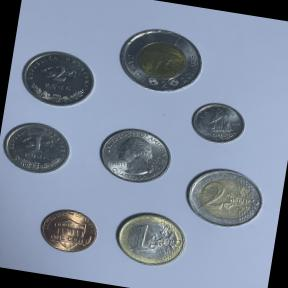coin: (110, 18, 211, 100), (177, 160, 271, 236), (12, 41, 102, 116), (90, 120, 178, 191), (107, 204, 192, 274), (32, 200, 104, 260), (184, 95, 250, 150)
